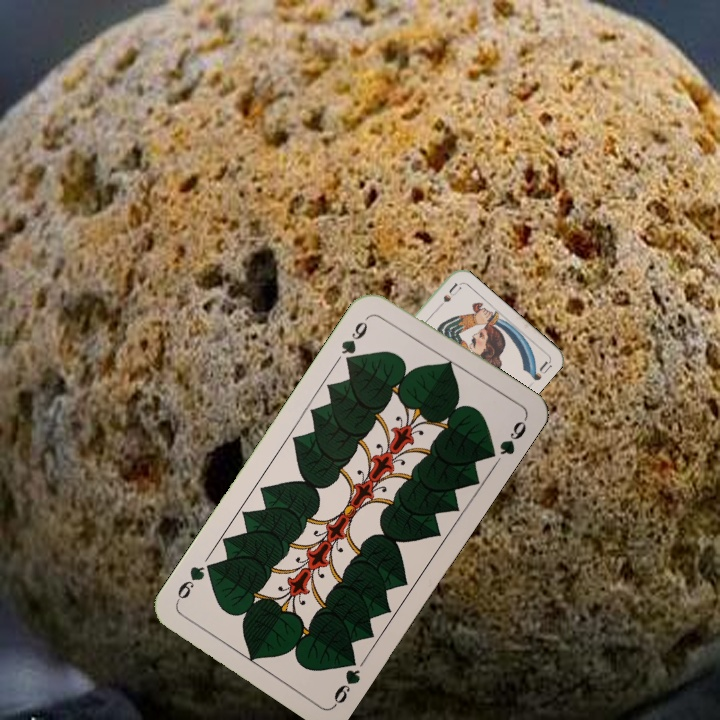G9: (337, 311, 374, 368), (329, 650, 363, 709)
SU: (430, 279, 463, 315)
